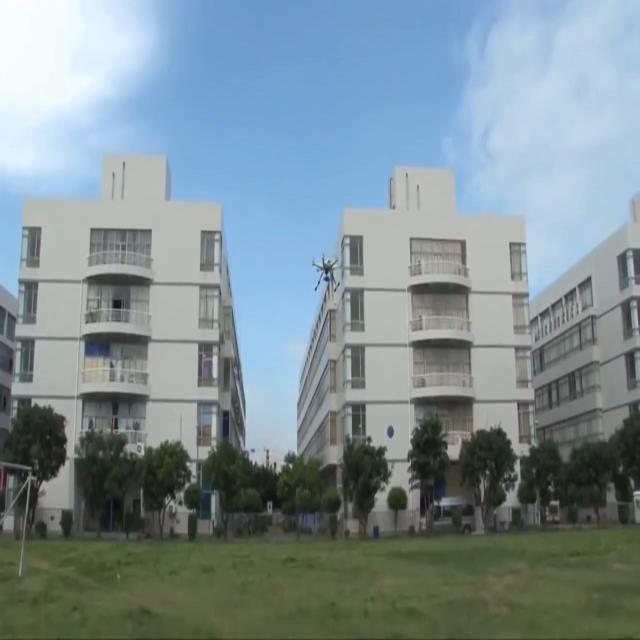drone: (311, 253, 340, 292)
